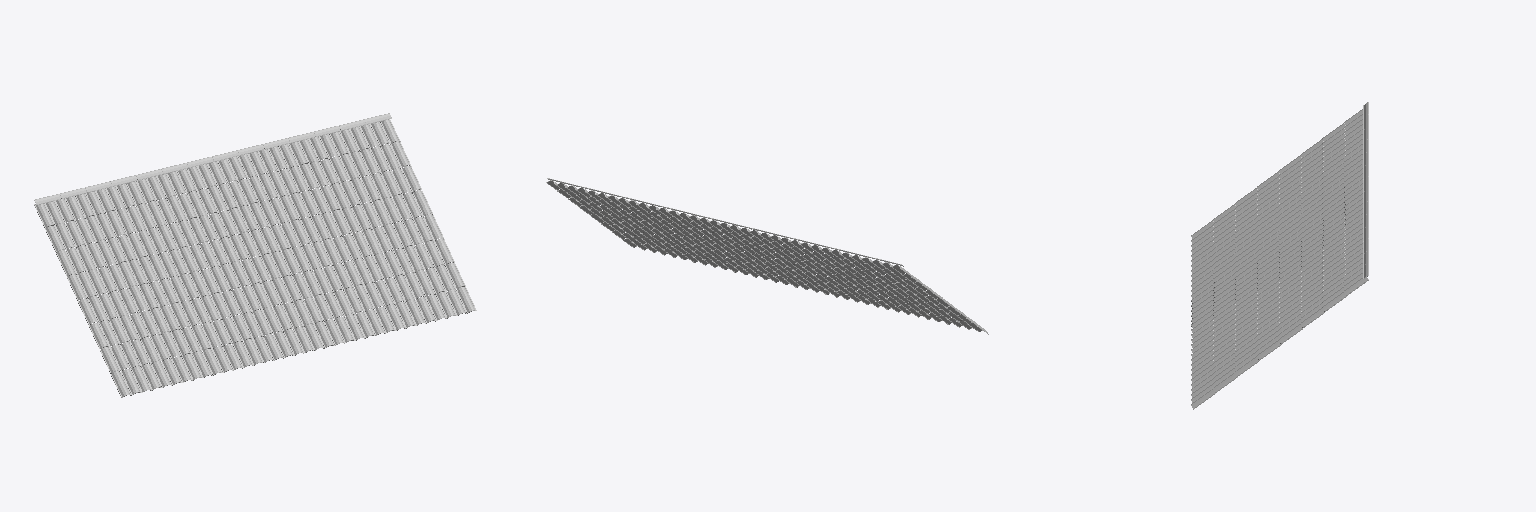
Rendered from TEJADO.obj.
3 renders of one model, left to right at view 1: azimuth 30°, elevation 25°; view 2: azimuth 150°, elevation 25°; view 3: azimuth 270°, elevation 25°, orthographic.
Visible parts, largest first — view 1: TEJADO; view 2: TEJADO; view 3: TEJADO.
Boxes of the visible parts, x1=… form: TEJADO: x1=34, y1=113, x2=476, y2=397; TEJADO: x1=546, y1=178, x2=988, y2=334; TEJADO: x1=1191, y1=102, x2=1368, y2=409.
Bounding box in the file's own units: 58.11 × 20.94 × 25.14.